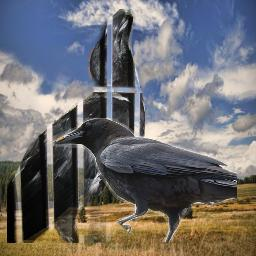Crow: (7, 9, 145, 243), (53, 118, 237, 242)
